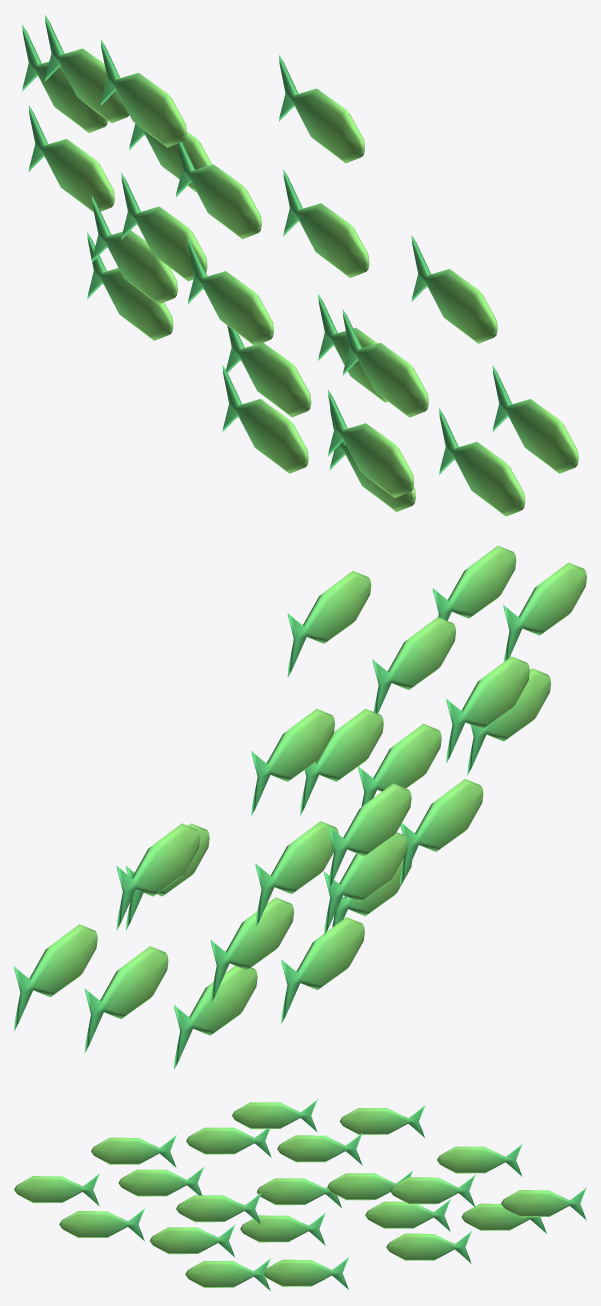
File: fish6.fbx
3 renders of one model, top to bottom at view 1: azimuth 30°, elevation 25°; view 2: azimuth 150°, elevation 25°; view 3: azimuth 270°, elevation 25°, orthographic. The views are drawn at different scales.
Visible parts, largest first — view 1: obj6; view 2: obj6; view 3: obj6.
Boxes of the visible parts, x1=… form: obj6: x1=22, y1=15, x2=578, y2=516; obj6: x1=14, y1=545, x2=586, y2=1069; obj6: x1=14, y1=1099, x2=586, y2=1291.
Bounding box in the file's own units: 11.33 × 45.53 × 120.
1 material, 1 textured.
